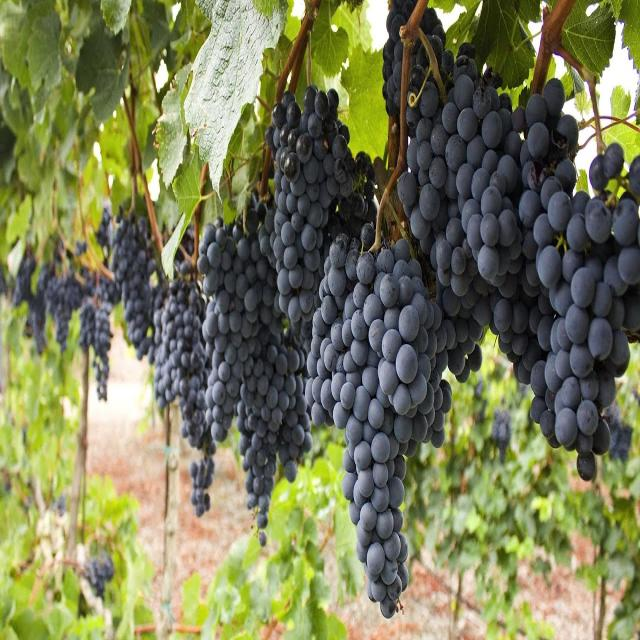Grapes: (512, 55, 640, 496), (314, 227, 448, 617), (394, 38, 524, 396), (255, 50, 362, 338), (134, 263, 236, 528), (227, 306, 311, 554), (193, 209, 266, 452), (96, 188, 175, 362), (72, 267, 123, 407), (42, 262, 88, 382)
